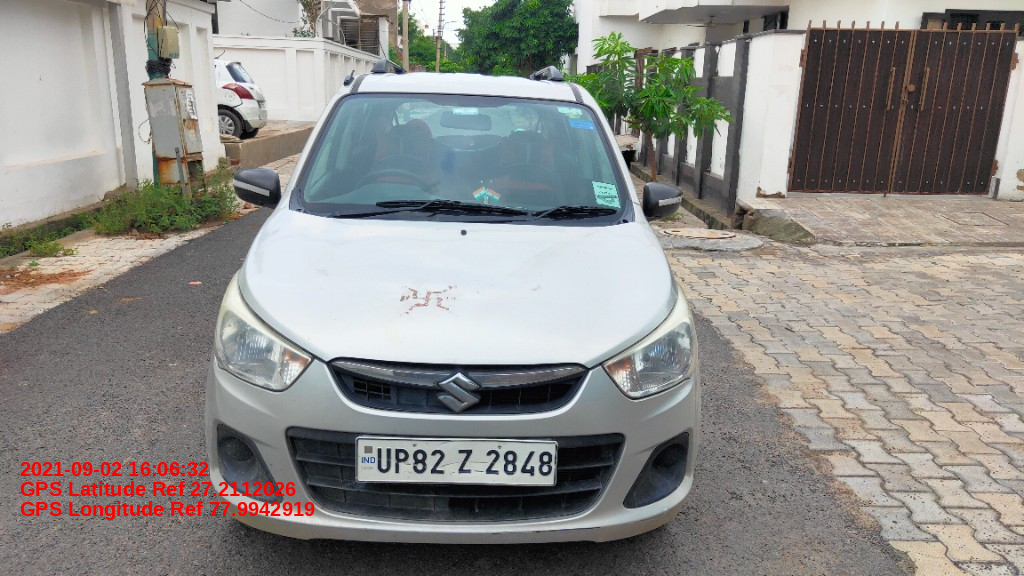Scratched: (637, 507, 671, 527), (530, 525, 604, 534), (490, 528, 506, 539)
